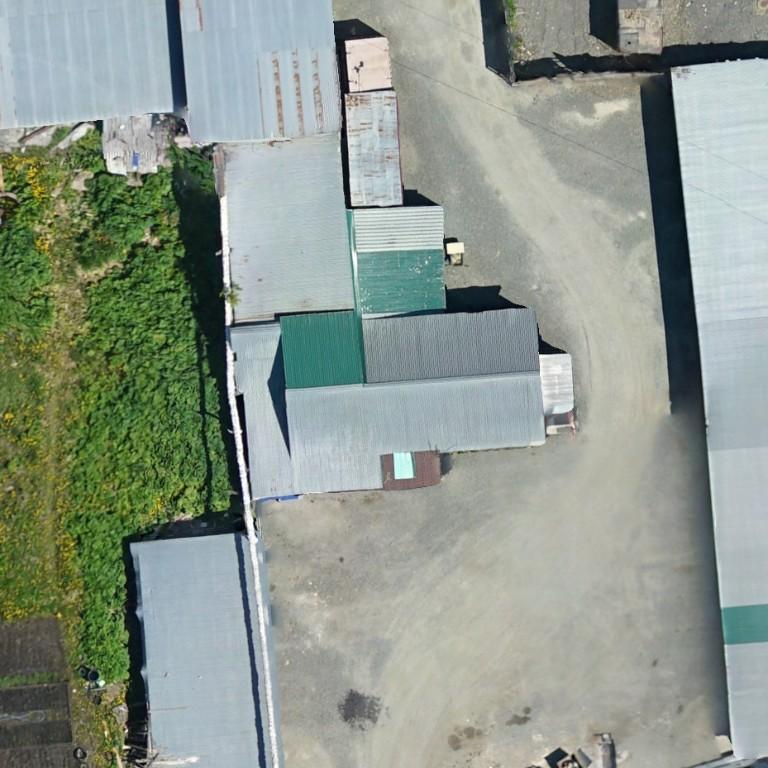hogweed: (73, 225, 230, 507), (69, 512, 142, 681), (0, 178, 55, 339), (86, 168, 175, 243)
